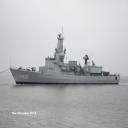Fragata: (10, 27, 122, 87)
